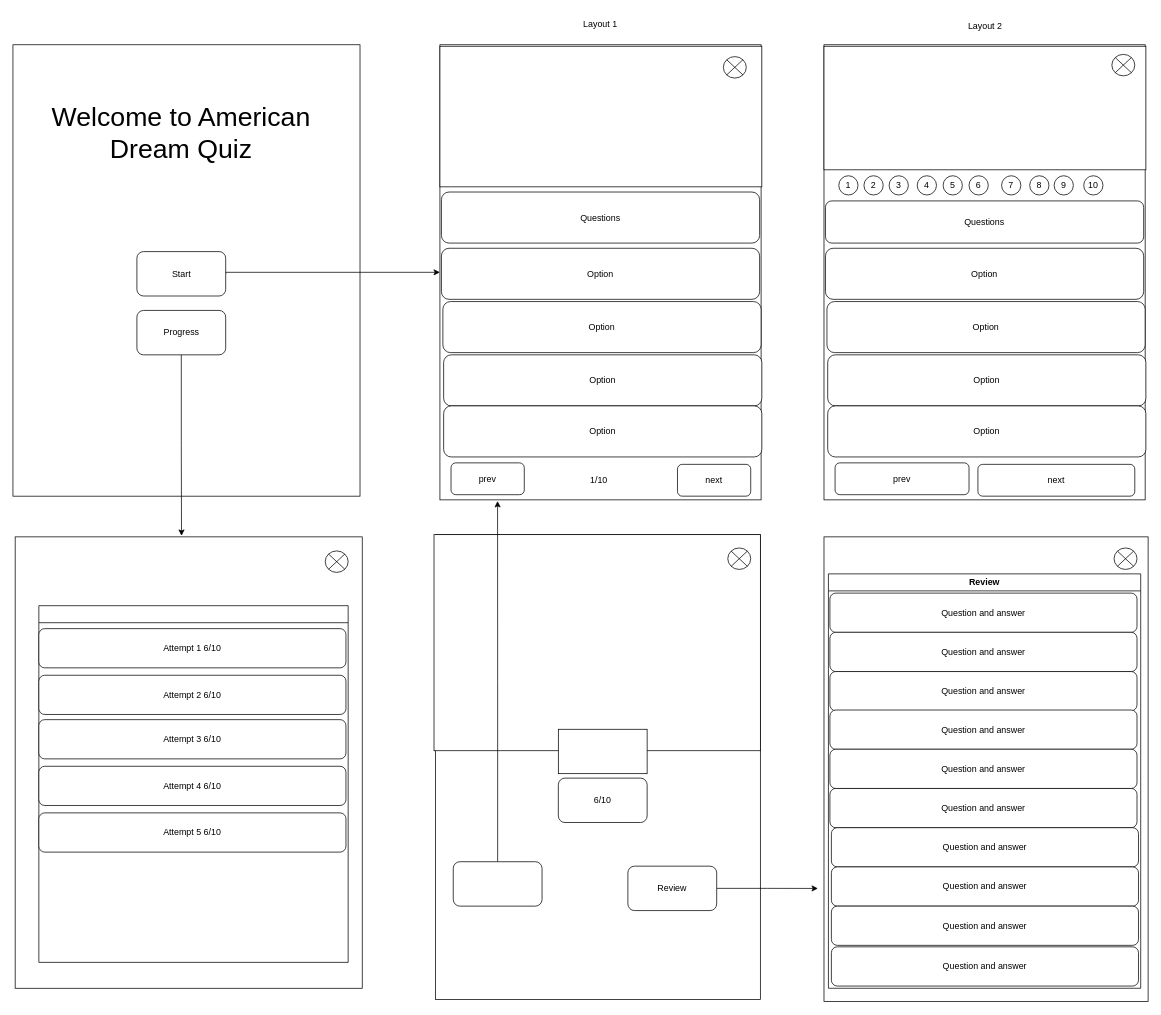
This 1161x1015 diagram has some shape labels left out. The box of each missing label's shape, as (x1, y1, x2, y2) in pixels:
Conditions text Passed/Failed: (558, 729, 647, 774)
Next Attempt: (453, 861, 542, 906)
Recent 10 attempts: (38, 605, 348, 962)
Trophy based on Score and background flag: (433, 534, 760, 751)
